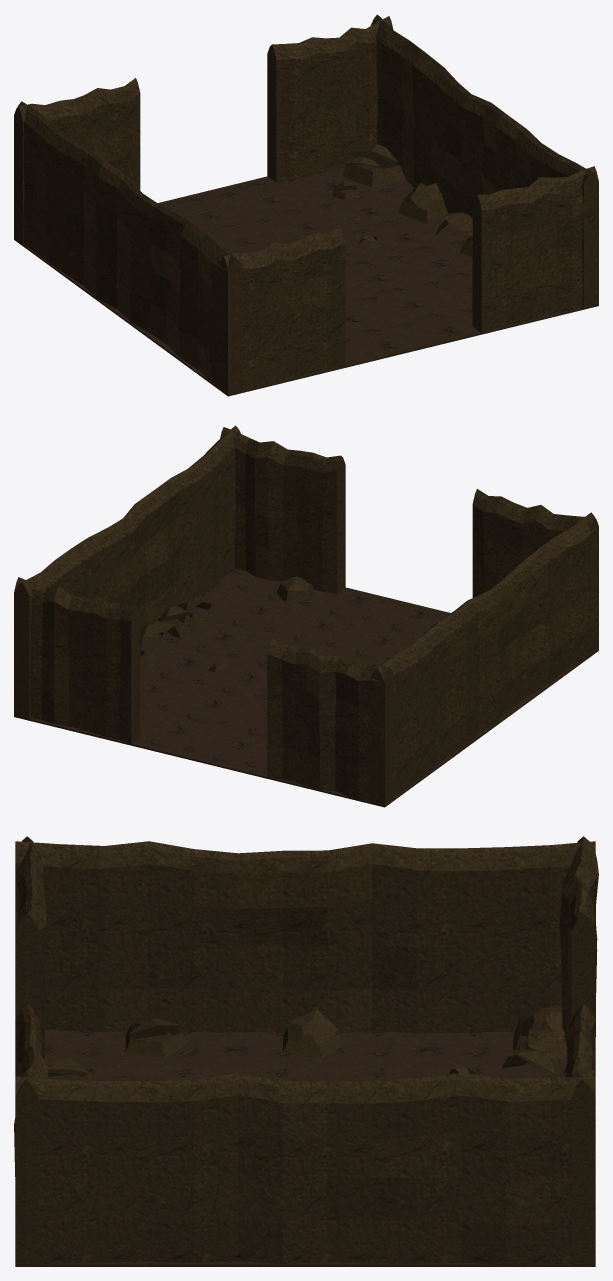
Rendered from dungeon_room_12_dirt.glb.
The picture shows the model from 3 angles, top to bottom: view 1: azimuth 30°, elevation 25°; view 2: azimuth 150°, elevation 25°; view 3: azimuth 270°, elevation 25°; orthographic projection. The views are drawn at different scales.
Parts seen in each view (by area): view 1: dungeon_room_12_dirt; view 2: dungeon_room_12_dirt; view 3: dungeon_room_12_dirt.
Part boxes in pixels (x1,y1,x2,y2): dungeon_room_12_dirt: (14, 14, 598, 396); dungeon_room_12_dirt: (14, 425, 598, 807); dungeon_room_12_dirt: (14, 836, 598, 1266).
Bounding box in the file's own units: 12.13 × 4.3 × 12.09.
Materials: 2 (2 with a texture image).
